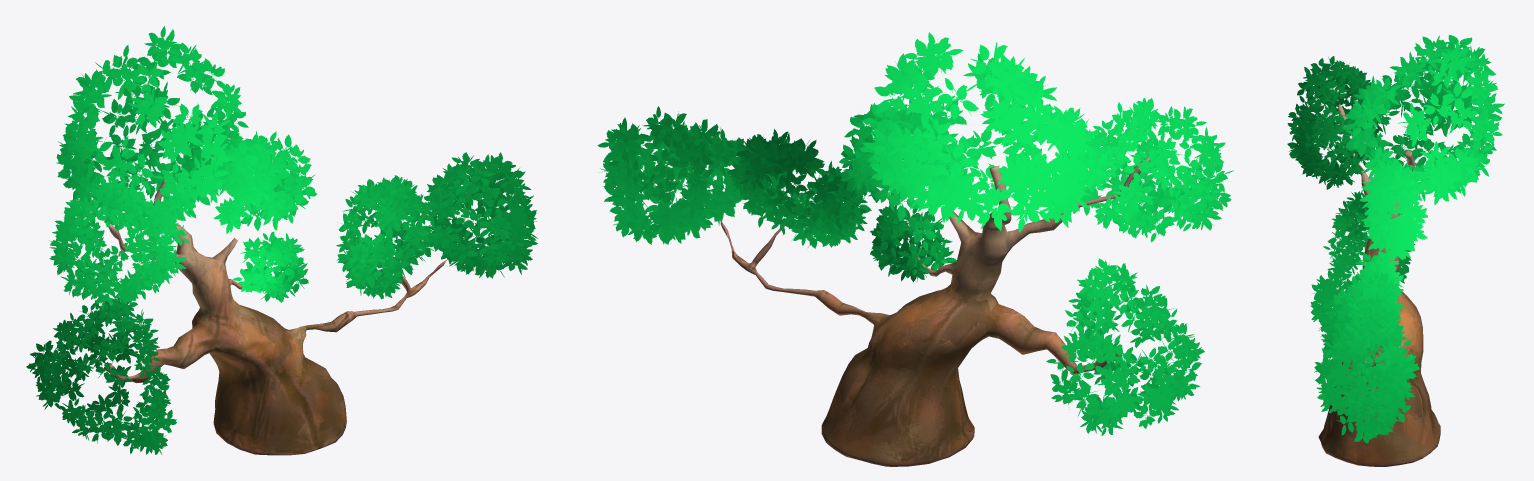
Rendered from Tree.fbx.
3 renders of one model, left to right at view 1: azimuth 30°, elevation 25°; view 2: azimuth 150°, elevation 25°; view 3: azimuth 270°, elevation 25°, orthographic. The views are drawn at different scales.
Visible parts, largest first — view 1: Leaves, Retopo_High poly trunk; view 2: Leaves, Retopo_High poly trunk; view 3: Leaves, Retopo_High poly trunk.
Part boxes in pixels (<box>): Leaves: <box>26,26,537,454</box>; Retopo_High poly trunk: <box>104,179,447,455</box>; Leaves: <box>597,32,1233,435</box>; Retopo_High poly trunk: <box>720,157,1150,466</box>; Leaves: <box>1287,35,1504,443</box>; Retopo_High poly trunk: <box>1318,104,1440,466</box>.
Bounding box in the file's own units: 1681 × 1229 × 725.
